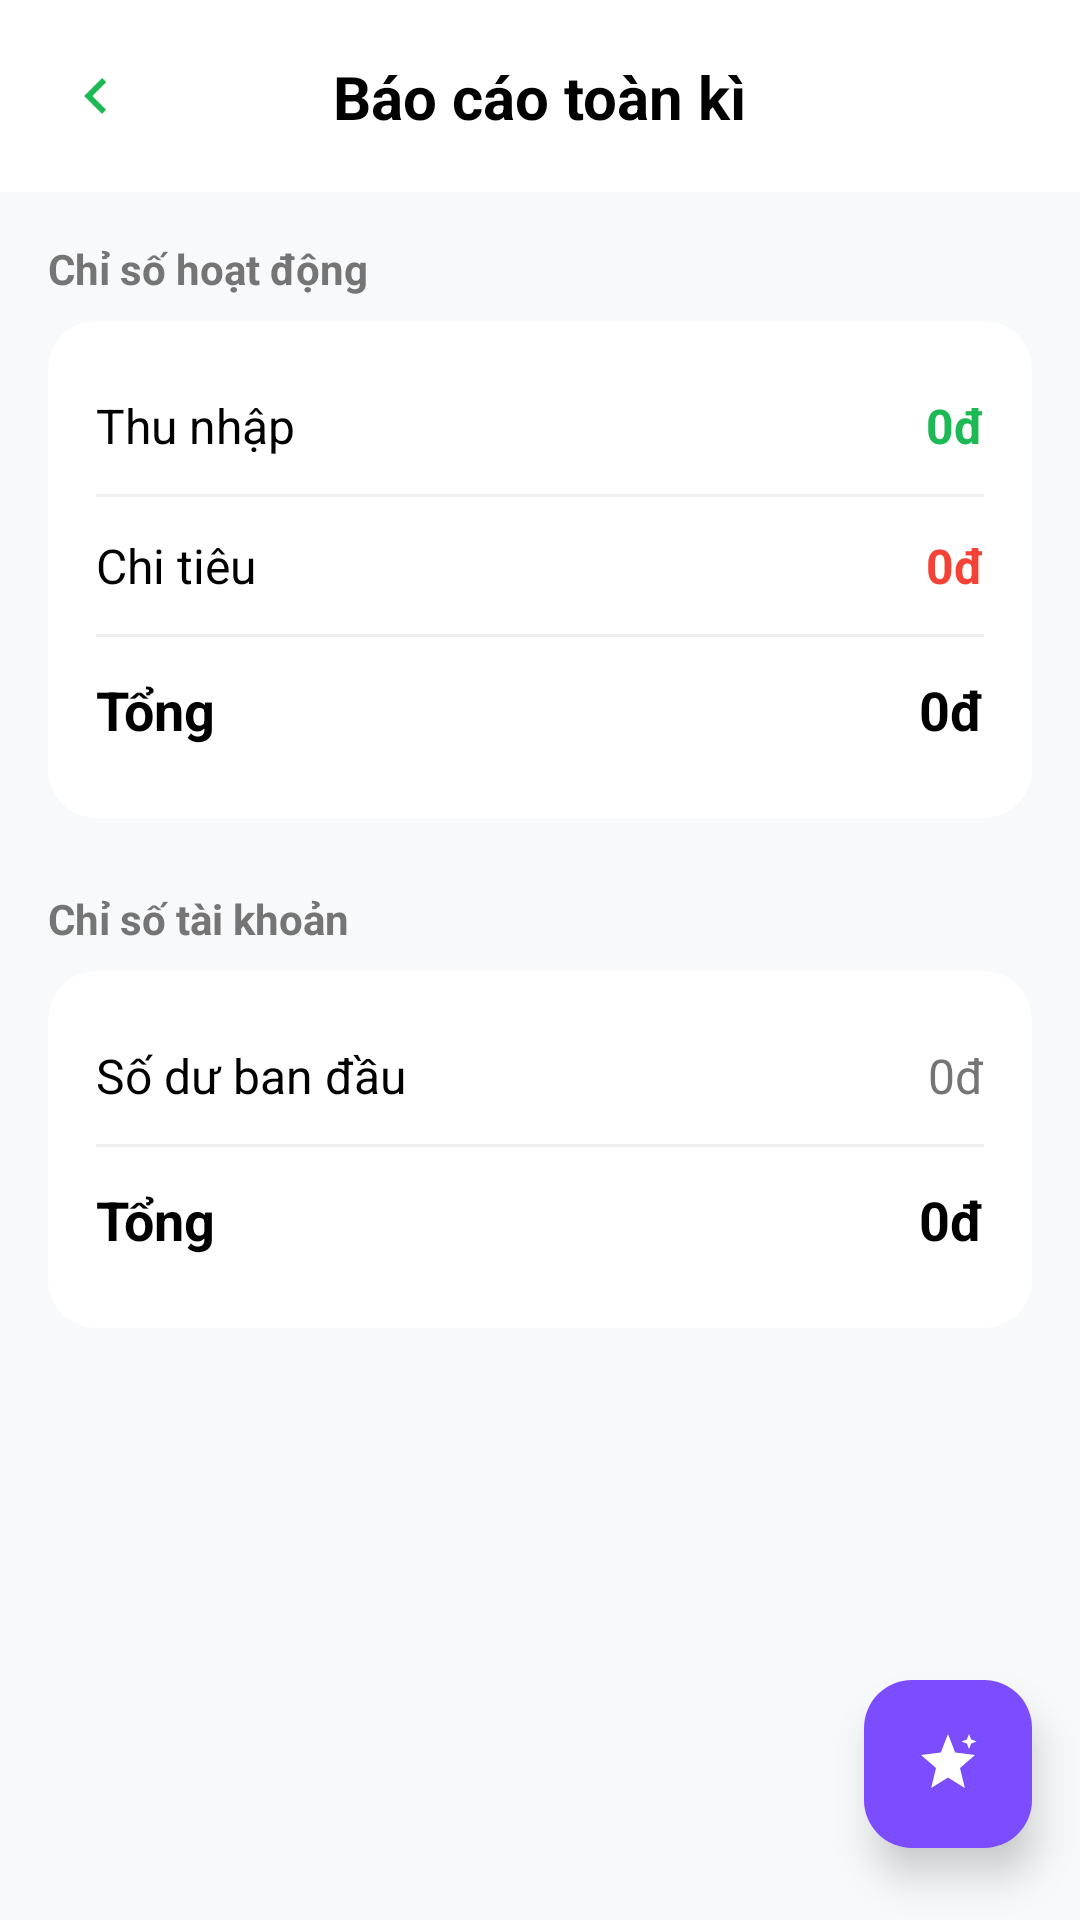

Screen size 1080*1920. Icon name, then its center in pixels as (x,y):
chevron left: (95,96)
Trợ lý AI: (948,1764)
